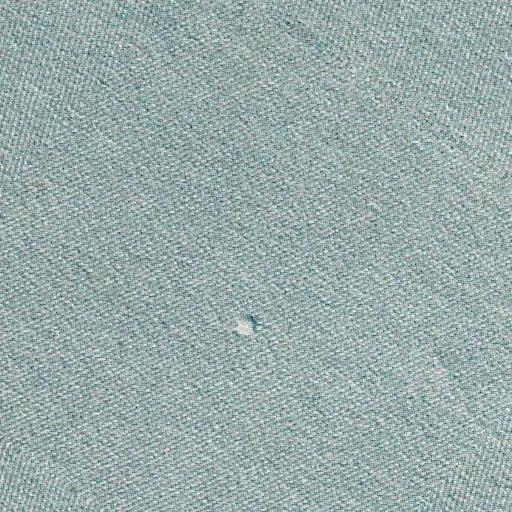knot: (228, 311, 272, 346)
